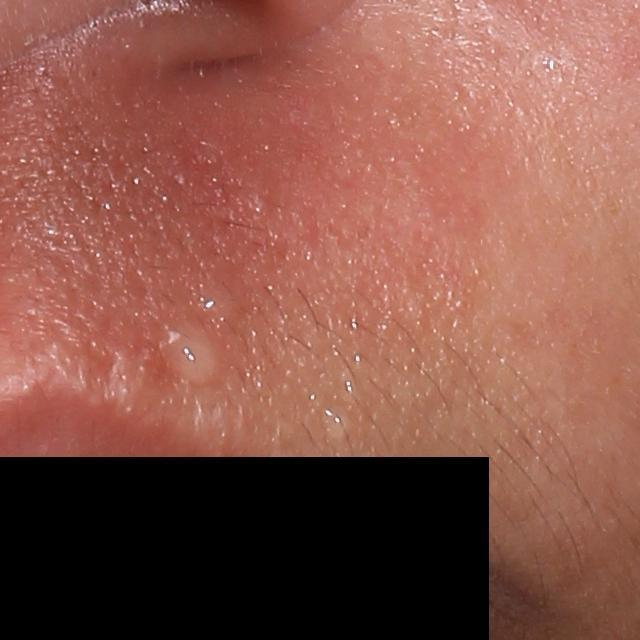other: (151, 315, 244, 401)
